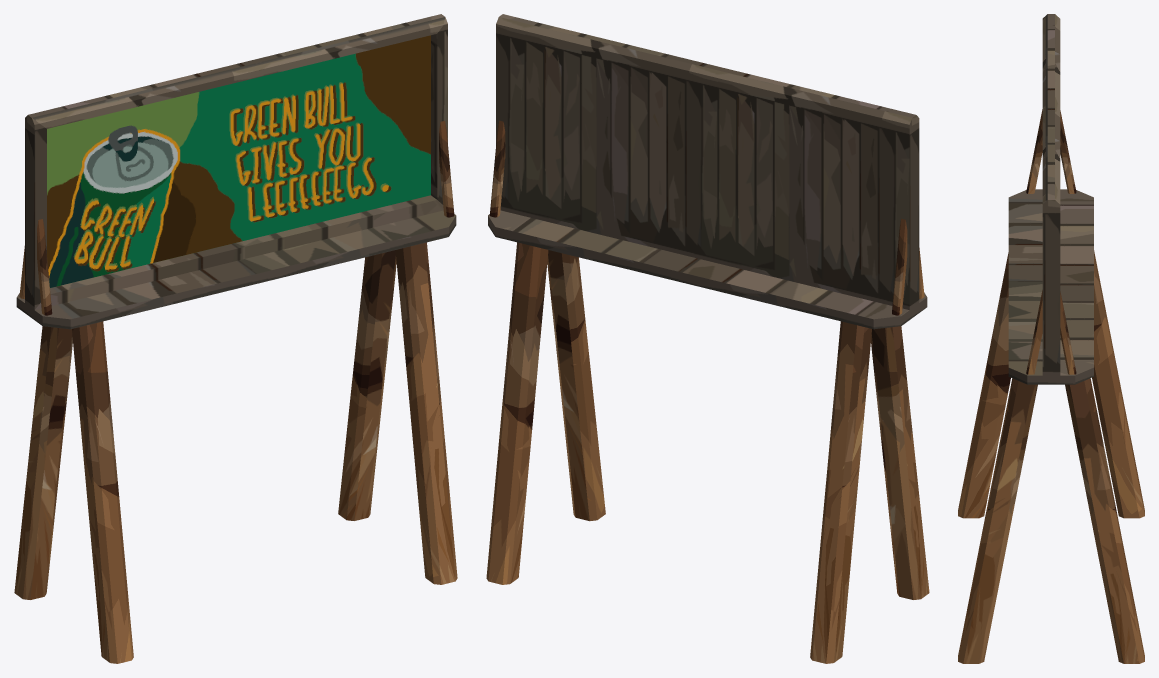
The model's file is ad_billboard.fbx.
3 views of the same model, side by side, from view 1: azimuth 30°, elevation 25°; view 2: azimuth 150°, elevation 25°; view 3: azimuth 270°, elevation 25° (orthographic). The views are drawn at different scales.
Parts seen in each view (by area): view 1: Cube, Cube.003, Cube.001, Cube.005, Cube.004, Cube.006, Cube.002; view 2: Cube, Cube.004, Cube.005, Cube.001, Cube.003, Cube.007, Cube.008; view 3: Cube, Cube.004, Cube.003, Cube.005, Cube.001, Cube.006, Cube.002, Cube.007, Cube.008.
Part boxes in pixels (x1,y1,x2,y2): Cube: (16, 14, 456, 329); Cube.003: (395, 242, 457, 584); Cube.001: (72, 321, 133, 663); Cube.005: (14, 326, 72, 599); Cube.004: (338, 250, 396, 520); Cube.006: (439, 121, 454, 217); Cube.002: (37, 219, 52, 315); Cube: (488, 14, 927, 329); Cube.004: (486, 242, 548, 584); Cube.005: (810, 321, 871, 663); Cube.001: (871, 326, 929, 599); Cube.003: (547, 250, 605, 521); Cube.007: (489, 120, 505, 217); Cube.008: (892, 218, 907, 315); Cube: (1008, 14, 1093, 384); Cube.004: (1065, 378, 1144, 663); Cube.003: (958, 378, 1037, 663); Cube.005: (1092, 250, 1144, 518); Cube.001: (958, 252, 1010, 518); Cube.006: (1026, 290, 1042, 374); Cube.002: (1026, 109, 1042, 193); Cube.007: (1060, 291, 1076, 374); Cube.008: (1060, 110, 1076, 193).
Bounding box in the file's own units: 1325 × 1591 × 562.
Materials: 3 (3 with a texture image).
